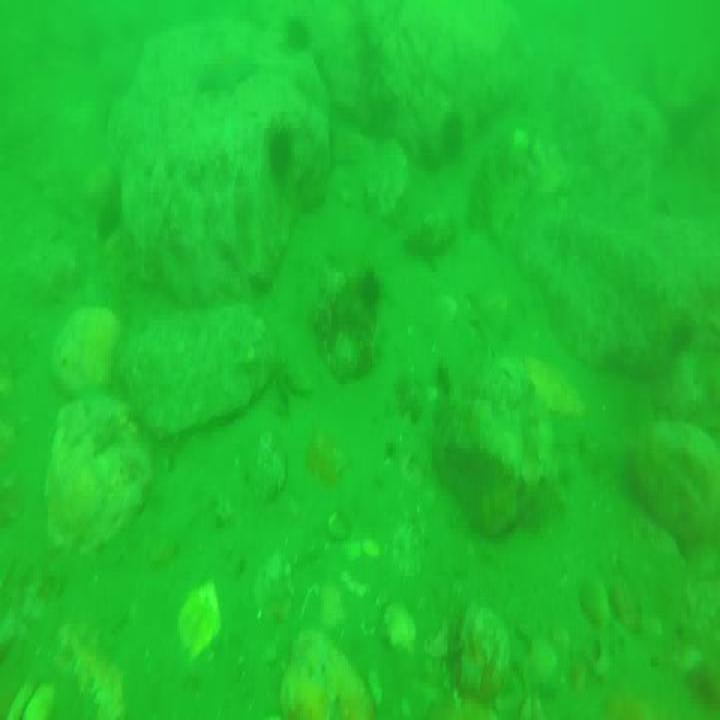echinus: (265, 122, 295, 178), (437, 110, 463, 169), (285, 16, 312, 55), (365, 267, 383, 311)
scallop: (378, 598, 417, 652)
